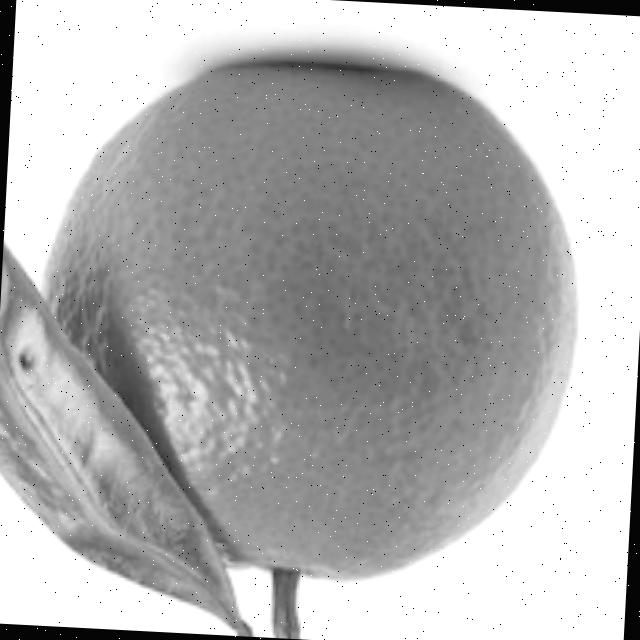orange: (24, 46, 595, 600)
